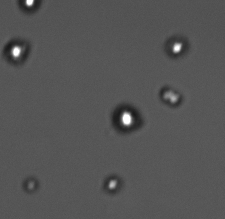Living Cell: (112, 104, 143, 132), (3, 37, 31, 64), (157, 84, 184, 107), (164, 35, 189, 58), (104, 174, 124, 192), (15, 1, 41, 14), (22, 176, 40, 193)
